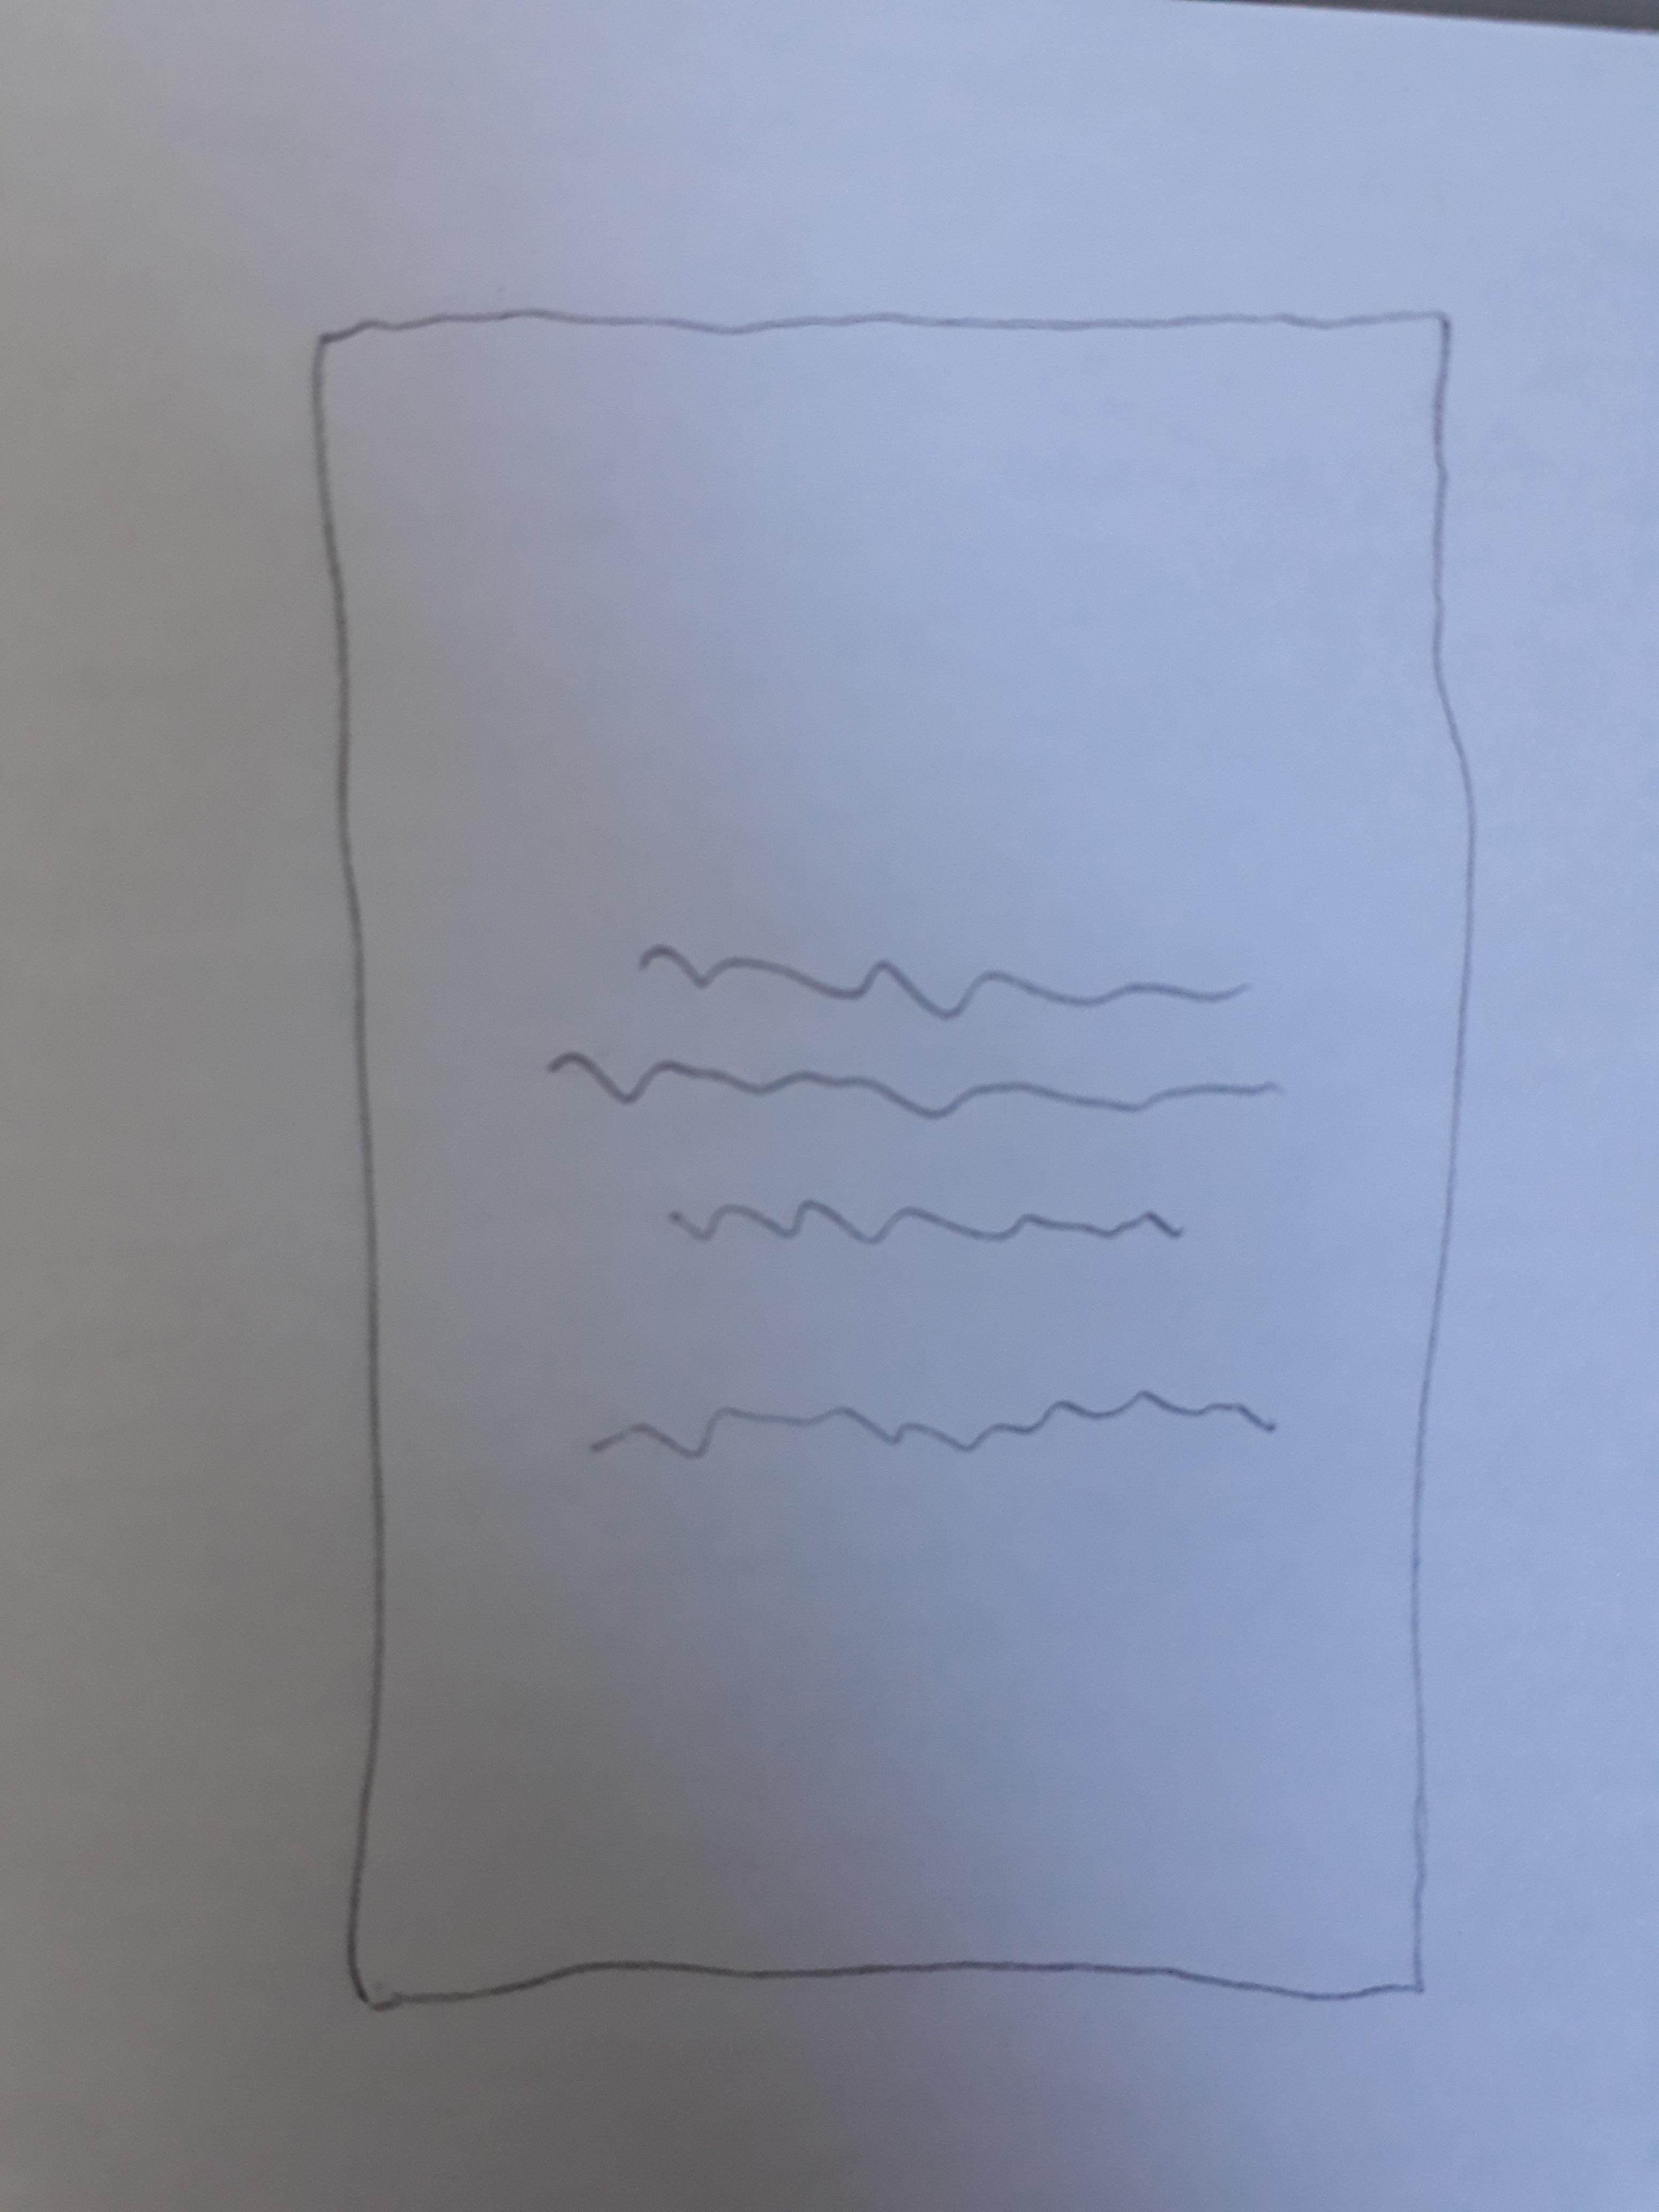Label: (545, 937, 1290, 1245), (589, 1388, 1283, 1463)
Screen: (314, 308, 1480, 2013)
